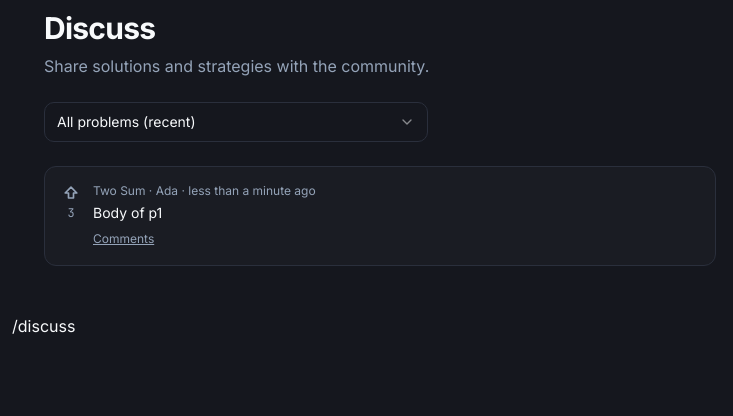
Test: Discuss page: votes and comments › loads comments only when a thread is opened
The width and height of the screenshot is (733, 416).
Check: the text "Body of p1" is shown, box [93,204,162,221]
Click the button "Comments": (124, 239) [93,231,154,247]
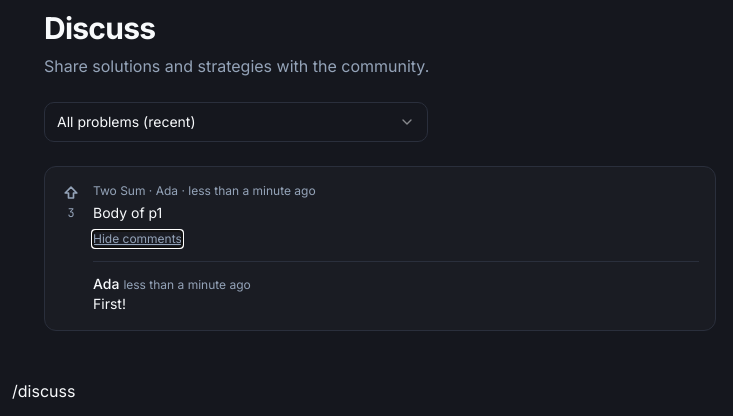
Check: the text "First!" is shown, box [93,295,126,312]
Check: the button "Hide comments" is shown, box [93,231,182,247]
